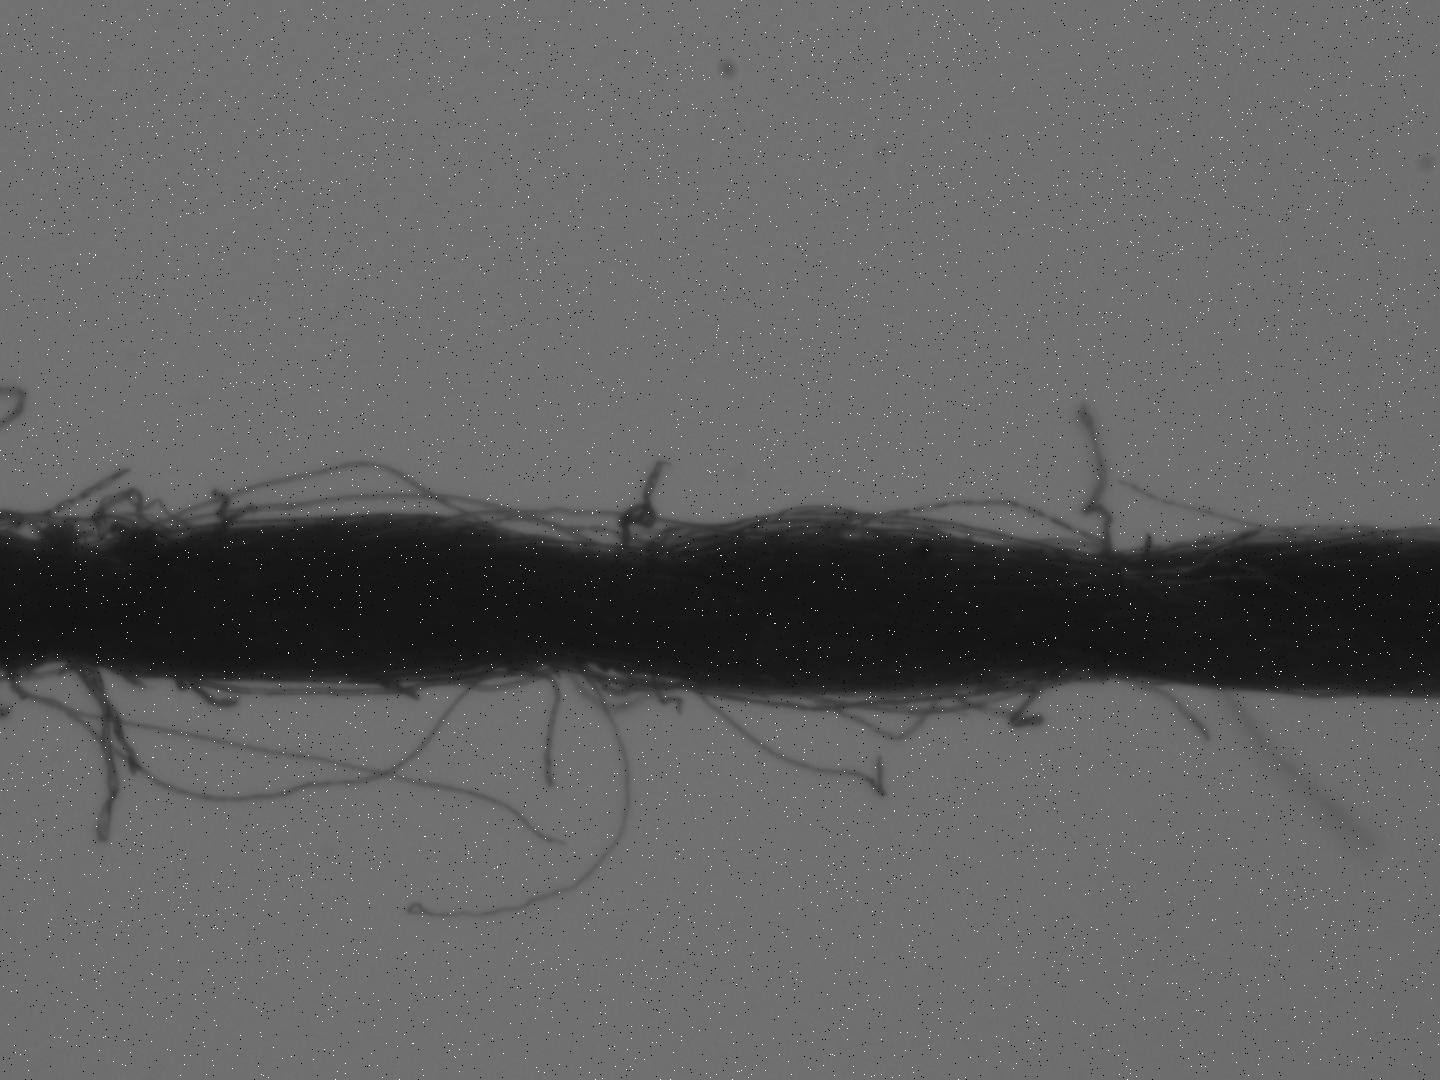loop_fiber: (806, 667, 1071, 746), (827, 493, 1116, 563), (22, 481, 209, 558), (642, 506, 886, 554), (543, 655, 718, 714), (435, 504, 632, 551), (611, 454, 671, 555), (439, 665, 540, 700)
protruding_fiber: (405, 664, 639, 925)
